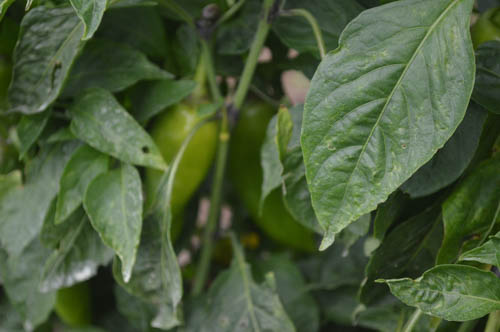ChiliPepper: (226, 98, 314, 247), (147, 105, 217, 256)
